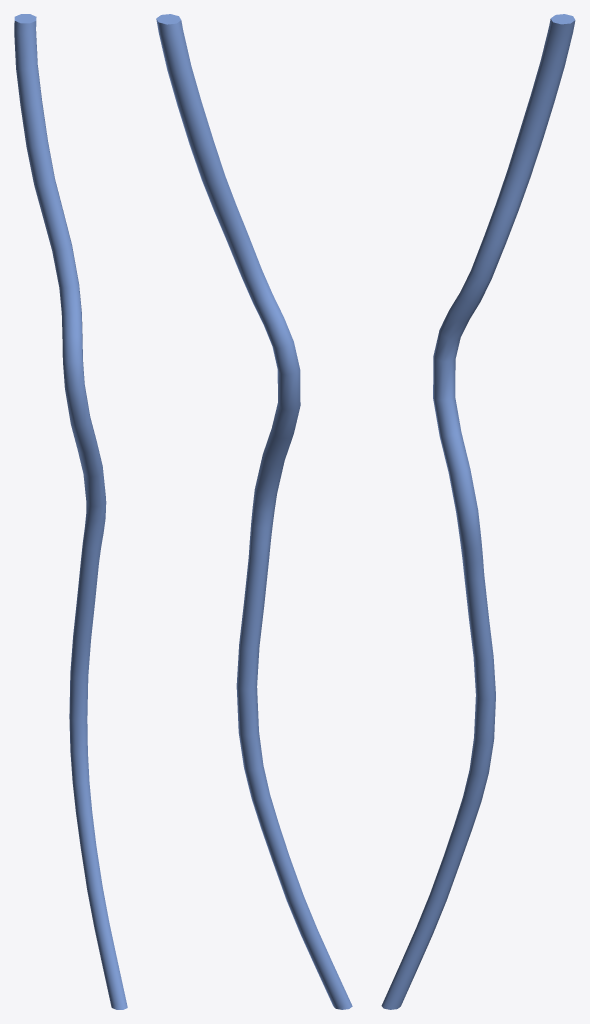
Rendered from veine-basilique.glb.
3 renders of one model, left to right at view 1: azimuth 90°, elevation 25°; view 2: azimuth 150°, elevation 25°; view 3: azimuth 330°, elevation 25°, orthographic. The views are drawn at different scales.
Visible parts, largest first — view 1: veine-basilique; view 2: veine-basilique; view 3: veine-basilique.
Boxes of the visible parts, box(x1,y1,x2,y2) form: veine-basilique: box(14, 14, 127, 1009); veine-basilique: box(156, 14, 352, 1009); veine-basilique: box(381, 14, 575, 1009).
Bounding box in the file's own units: 0.0359 × 0.24 × 0.0265.
